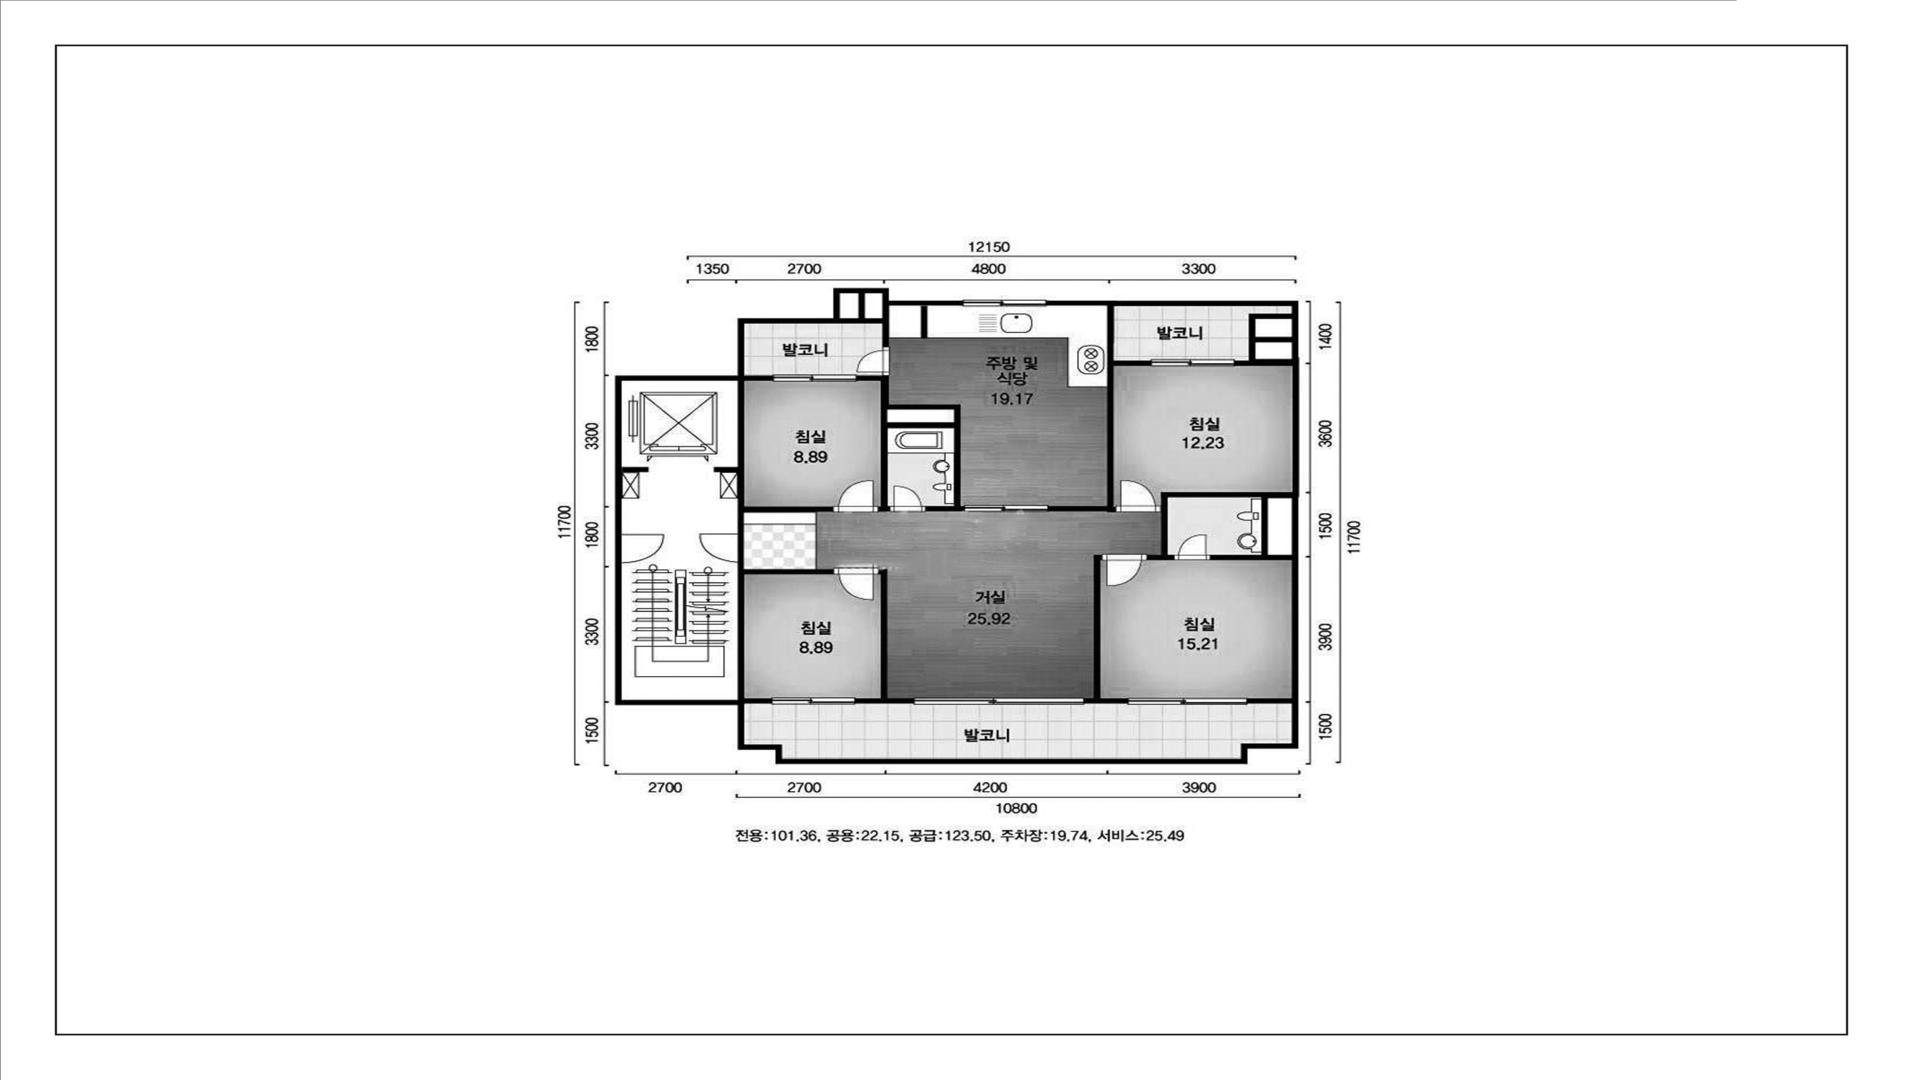background: (0, 1, 1920, 1080)
door: (614, 533, 664, 564), (1102, 554, 1148, 586), (834, 568, 878, 601), (833, 480, 878, 512), (1116, 480, 1161, 512), (699, 533, 744, 563), (890, 485, 926, 512), (1174, 535, 1210, 561), (965, 505, 1048, 512)
wall: (614, 301, 1298, 764), (615, 288, 962, 533), (1048, 306, 1150, 512), (714, 381, 833, 533), (857, 376, 964, 511), (737, 563, 834, 700), (1147, 492, 1292, 560), (856, 569, 914, 703), (1084, 555, 1127, 703), (1234, 314, 1292, 366), (840, 293, 889, 347), (1248, 699, 1292, 704), (921, 305, 927, 338), (744, 376, 772, 381), (622, 467, 648, 472), (745, 699, 771, 704)
window: (914, 698, 1084, 705), (1127, 698, 1248, 705), (1150, 359, 1235, 367), (771, 698, 856, 705), (962, 300, 1046, 307), (773, 375, 857, 382)
